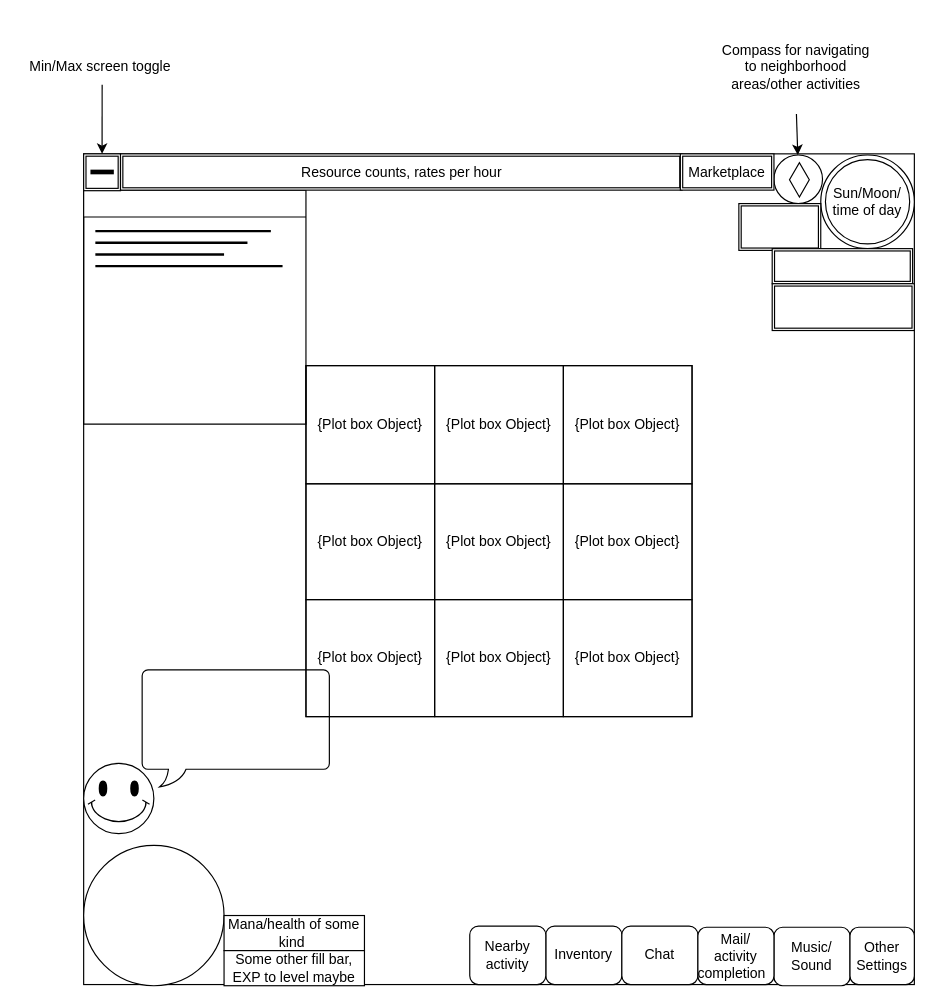
This 935x1006 diagram has some shape labels left out. Each missing label, with the box of its shape:
Activities: (738, 202, 821, 250)
AI support character(s) which gives tips and progresses gameplay: (141, 669, 329, 787)
Avatar: (82, 844, 224, 986)
Botany facts/discoveries: (771, 283, 914, 331)
Plant Journal: (771, 247, 913, 284)
Progress Bars: (82, 189, 306, 424)
